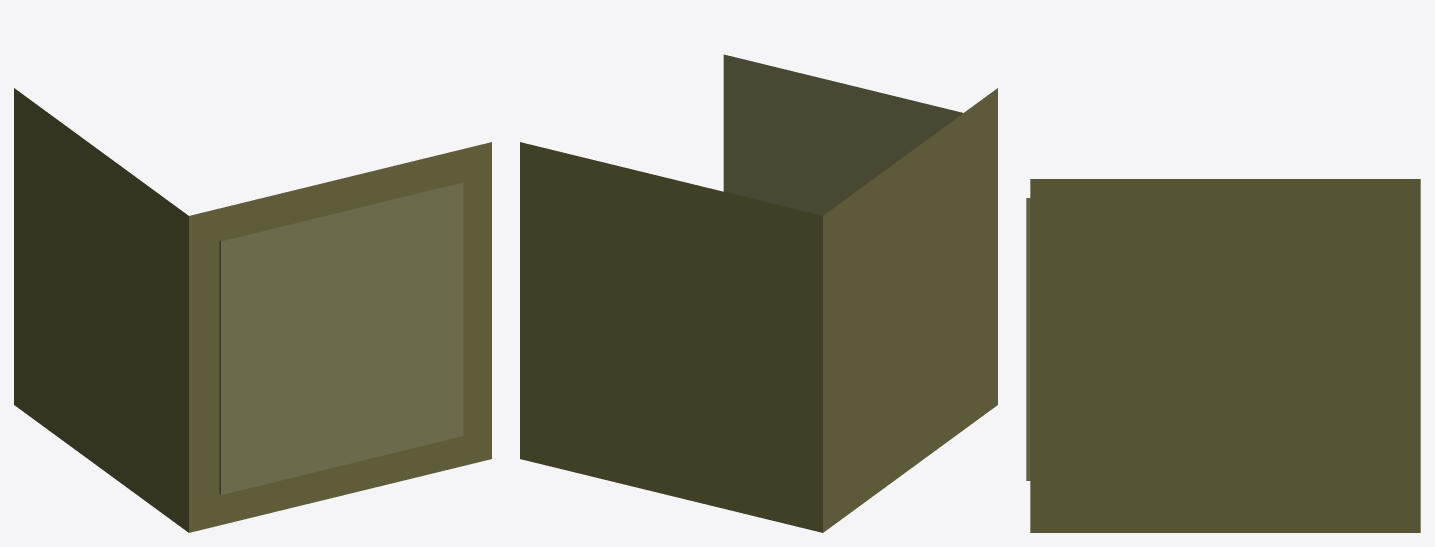
Rendered from Wall-olive.glb.
The picture shows the model from 3 angles, left to right: view 1: azimuth 30°, elevation 25°; view 2: azimuth 150°, elevation 25°; view 3: azimuth 270°, elevation 25°; orthographic projection. The views are drawn at different scales.
Parts seen in each view (by area): view 1: Wall; view 2: Wall; view 3: Wall.
Boxes of the visible parts, x1=… form: Wall: x1=14, y1=88, x2=491, y2=532; Wall: x1=520, y1=54, x2=997, y2=532; Wall: x1=1026, y1=179, x2=1420, y2=532.
Size of the model in its own units: 1 by 1 by 1.01.
